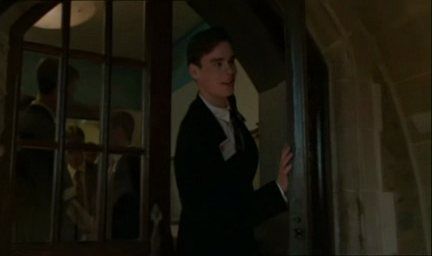face: (206, 53, 238, 96)
ms: (1, 1, 432, 256)
person: (173, 28, 294, 256)
